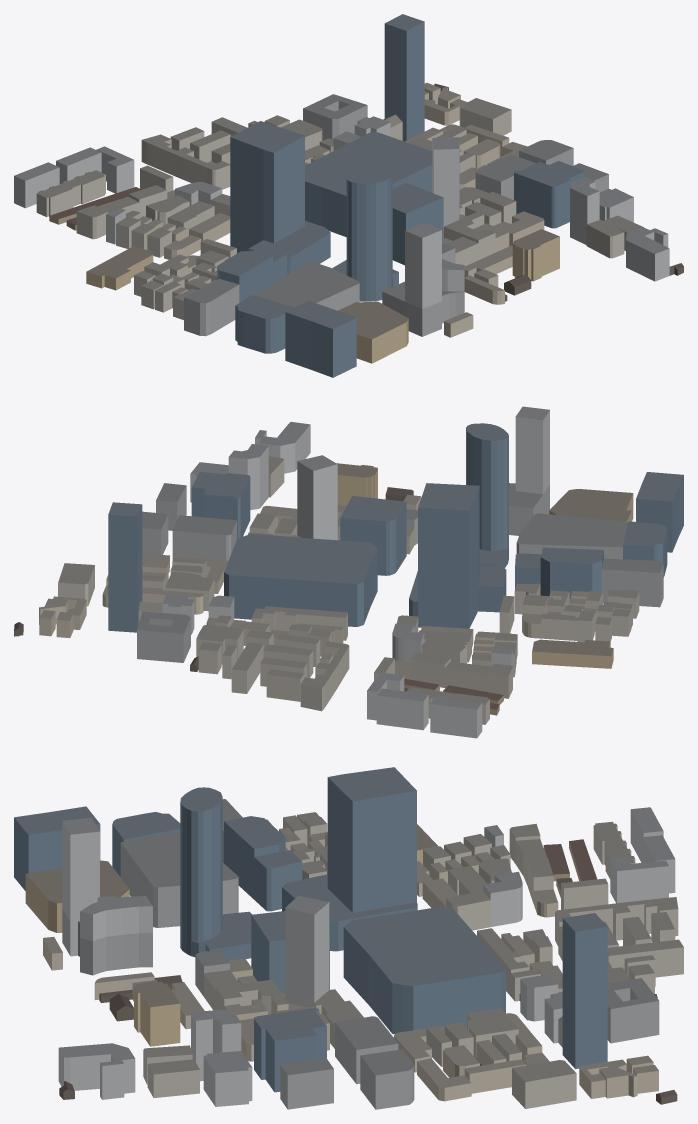
Rendered from tile_5_10.glb.
3 renders of one model, top to bottom at view 1: azimuth 30°, elevation 25°; view 2: azimuth 150°, elevation 25°; view 3: azimuth 270°, elevation 25°, orthographic. The views are drawn at different scales.
Visible parts, largest first — view 1: HP-w160821059, HP-w378107236, HP-w792384681, HP-w380340014, HP-w1197628883, HP-w320908499, HP-w494086374, HP-w380339892, HP-w378107239, HP-w160964966, HP-w378107150, HP-w160821060 (+41 smaller); view 2: HP-w378107236, HP-w160821059, HP-w792384681, HP-w380340014, HP-w378107150, HP-w494086374, HP-w378107140, HP-w380339892, HP-w320908499, HP-w160821061, HP-w1197628883, HP-w1156620261 (+43 smaller); view 3: HP-w378107236, HP-w160821059, HP-w792384681, HP-w380340014, HP-w494086374, HP-w378107140, HP-w320908499, HP-w380339892, HP-w1197628883, HP-r16213630, HP-w1197841534, HP-w160821061 (+64 smaller).
Part boxes in pixels (left/top/right/bottom): HP-w160821059: left=230, top=121, right=330, bottom=274; HP-w378107236: left=305, top=132, right=432, bottom=237; HP-w792384681: left=332, top=169, right=398, bottom=301; HP-w380340014: left=384, top=14, right=424, bottom=141; HP-w1197628883: left=285, top=301, right=356, bottom=377; HP-w320908499: left=514, top=161, right=585, bottom=228; HP-w494086374: left=254, top=261, right=359, bottom=310; HP-w380339892: left=405, top=222, right=441, bottom=308; HP-w378107239: left=338, top=301, right=408, bottom=363; HP-w160964966: left=235, top=295, right=294, bottom=353; HP-w378107150: left=392, top=182, right=443, bottom=265; HP-w160821060: left=184, top=278, right=239, bottom=336; HP-w378107236: left=224, top=533, right=377, bottom=626; HP-w160821059: left=409, top=483, right=506, bottom=628; HP-w792384681: left=466, top=423, right=508, bottom=568; HP-w380340014: left=108, top=502, right=142, bottom=632; HP-w378107150: left=340, top=496, right=406, bottom=575; HP-w494086374: left=516, top=513, right=628, bottom=559; HP-w378107140: left=297, top=455, right=337, bottom=540; HP-w380339892: left=515, top=406, right=549, bottom=494; HP-w320908499: left=191, top=471, right=250, bottom=538; HP-w160821061: left=540, top=547, right=603, bottom=600; HP-w1197628883: left=636, top=472, right=683, bottom=552; HP-w1156620261: left=172, top=515, right=236, bottom=560; HP-w378107236: left=343, top=906, right=505, bottom=1034; HP-w160821059: left=282, top=767, right=417, bottom=951; HP-w792384681: left=180, top=787, right=252, bottom=960; HP-w380340014: left=562, top=913, right=607, bottom=1068; HP-w494086374: left=120, top=831, right=238, bottom=927; HP-w378107140: left=285, top=895, right=329, bottom=1007; HP-w320908499: left=254, top=1008, right=326, bottom=1092; HP-w380339892: left=62, top=817, right=99, bottom=956; HP-w1197628883: left=14, top=806, right=100, bottom=890; HP-r16213630: left=607, top=978, right=659, bottom=1043; HP-w1197841534: left=62, top=909, right=152, bottom=975; HP-w160821061: left=224, top=816, right=285, bottom=899.
Bounding box in the file's own units: 544 × 129 × 539.
